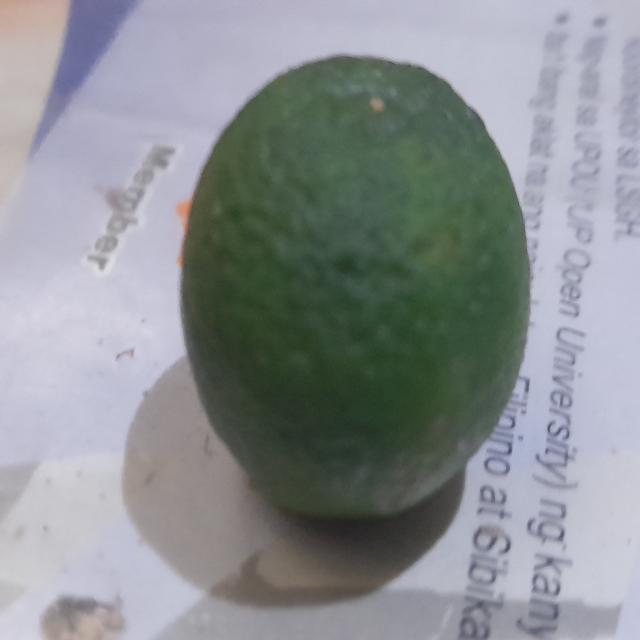heathy: (179, 47, 533, 527)
